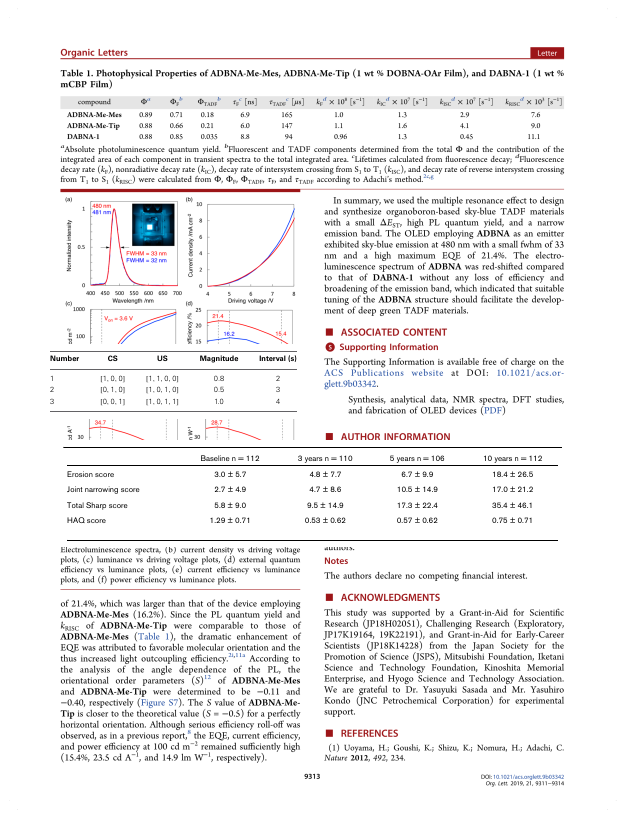borderless: (62, 445, 558, 540), (49, 349, 297, 411)
cell: (65, 486, 140, 496), (65, 501, 128, 511), (481, 454, 543, 464), (199, 454, 260, 464), (296, 454, 353, 464), (388, 454, 445, 464), (65, 470, 114, 480), (490, 470, 534, 480), (490, 486, 534, 496), (490, 501, 534, 511), (490, 517, 534, 527), (395, 486, 438, 496), (395, 501, 438, 511), (208, 517, 251, 527), (303, 517, 346, 527), (395, 517, 438, 527), (65, 517, 106, 527), (305, 501, 344, 511), (198, 355, 239, 364), (258, 355, 297, 364), (213, 470, 247, 480), (308, 470, 342, 480), (400, 470, 434, 480), (213, 486, 247, 496), (308, 486, 342, 496), (213, 501, 247, 511), (144, 374, 179, 383), (144, 397, 179, 406), (48, 355, 80, 364), (144, 386, 179, 394), (99, 374, 126, 383), (99, 397, 126, 406), (99, 386, 126, 394), (155, 355, 168, 364), (106, 355, 118, 364), (212, 374, 225, 382), (212, 386, 225, 393), (213, 397, 224, 405), (48, 374, 55, 382), (274, 374, 280, 382), (49, 397, 55, 405), (274, 397, 280, 405), (49, 386, 55, 393), (274, 386, 280, 393)
